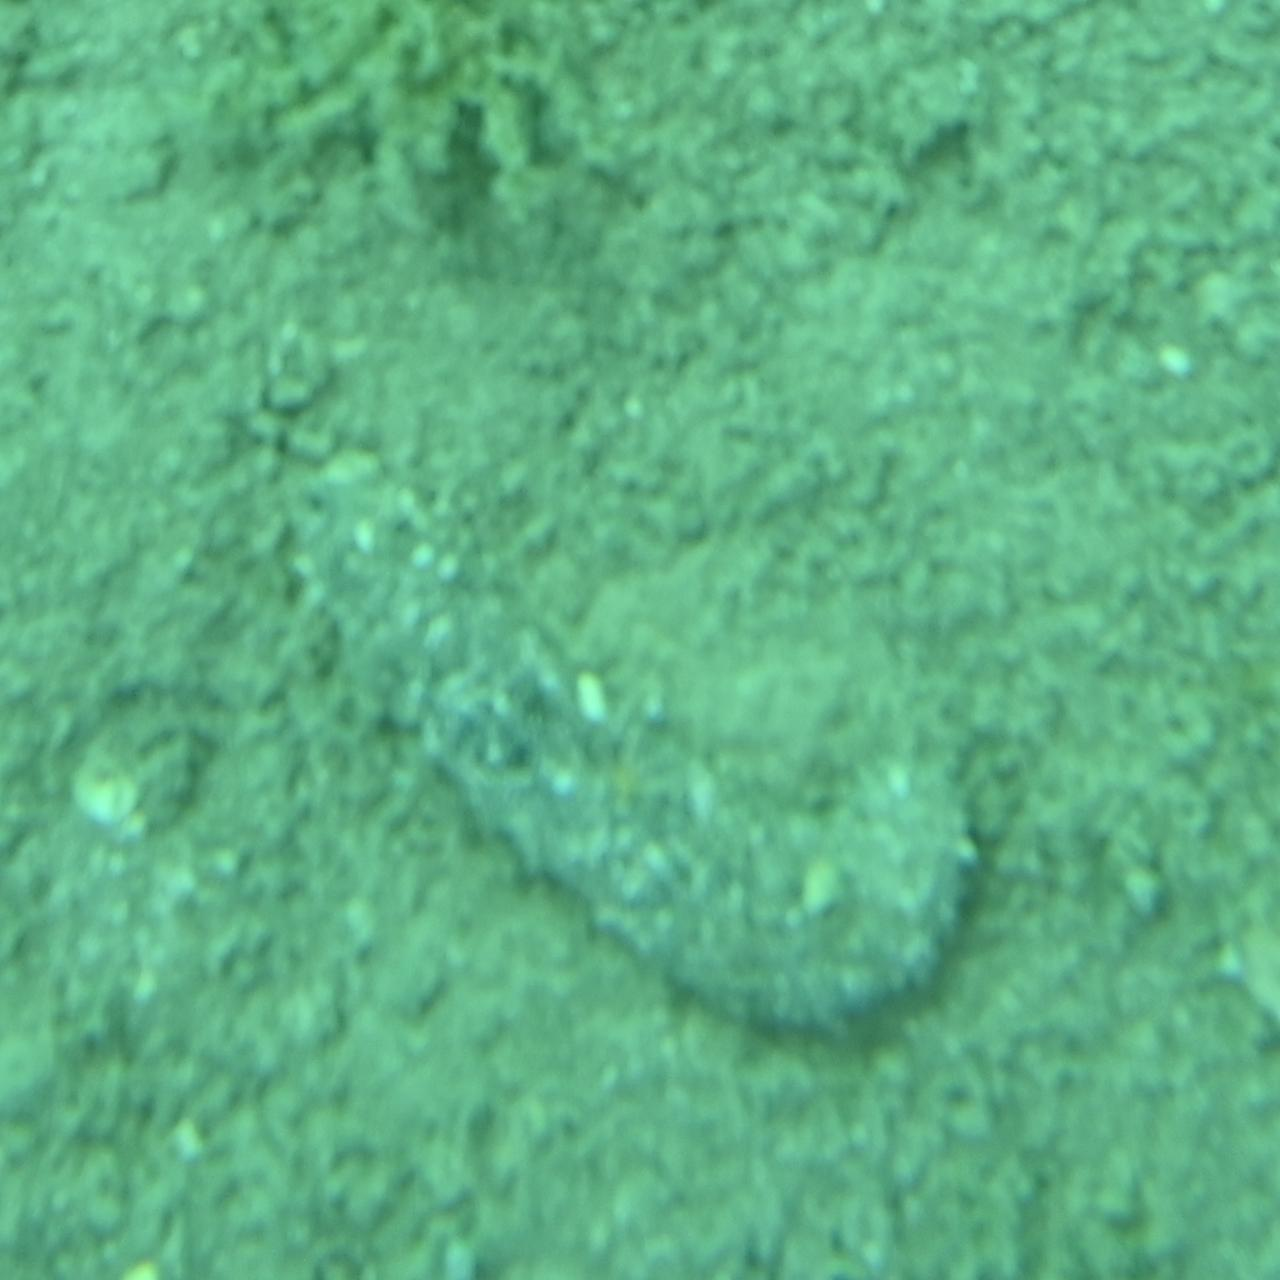Holothuria tubulosa: (290, 475, 990, 1059)
